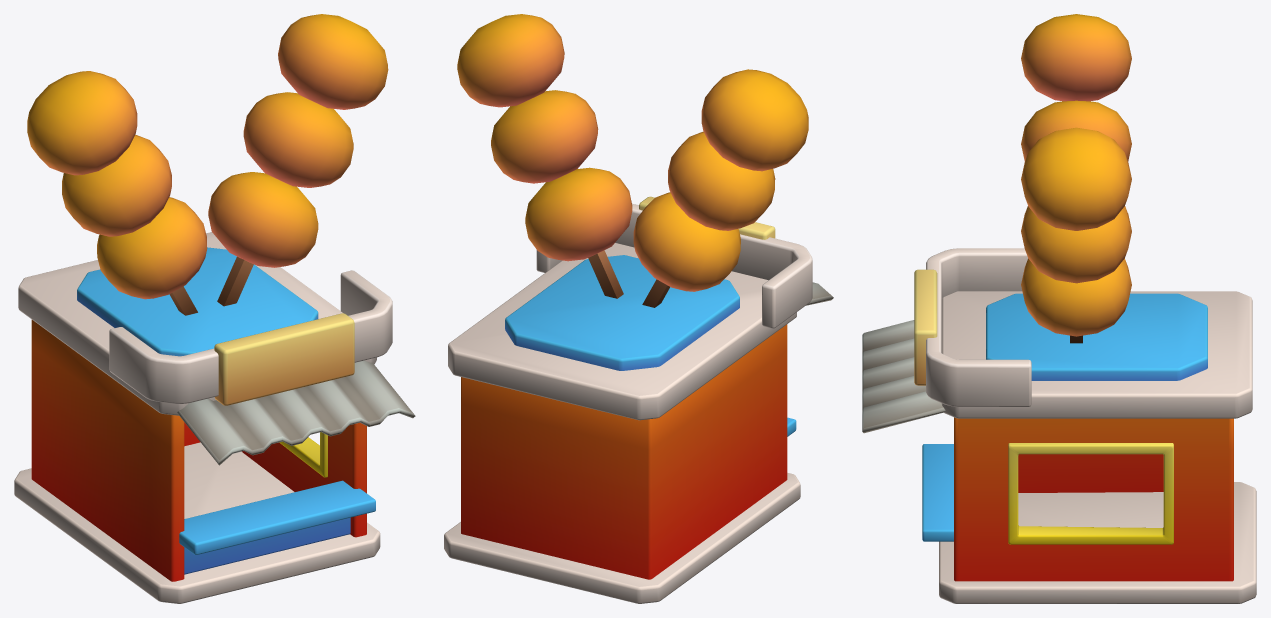
The model's file is lpb_store_kwekkwek.fbx.
3 views of the same model, side by side, from view 1: azimuth 30°, elevation 25°; view 2: azimuth 150°, elevation 25°; view 3: azimuth 270°, elevation 25° (orthographic). The views are drawn at different scales.
Visible parts, largest first — view 1: Store.013; view 2: Store.013; view 3: Store.013.
Part boxes in pixels (x1=…): Store.013: x1=14, y1=14, x2=415, y2=603; Store.013: x1=444, y1=14, x2=833, y2=603; Store.013: x1=862, y1=14, x2=1256, y2=603.
Bounding box in the file's own units: 500 × 666 × 500.
